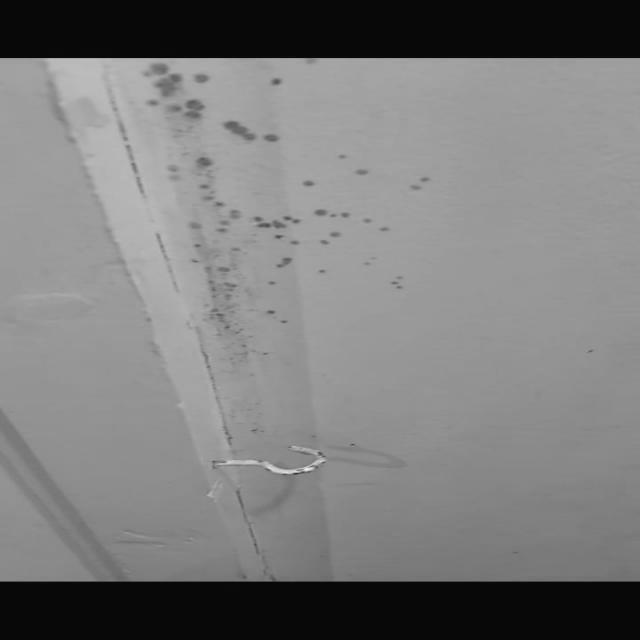stain marks: (30, 61, 288, 346), (295, 148, 450, 303), (555, 318, 613, 375)
